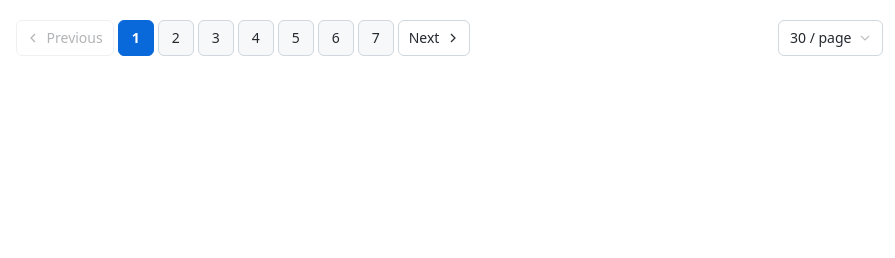
it: keeps nonstandard saved sizes available and ignores reselecting the current size
This screenshot has width=895, height=258.
Press ArrowDown in the dropdown named "Page Size", box [778, 20, 883, 56]
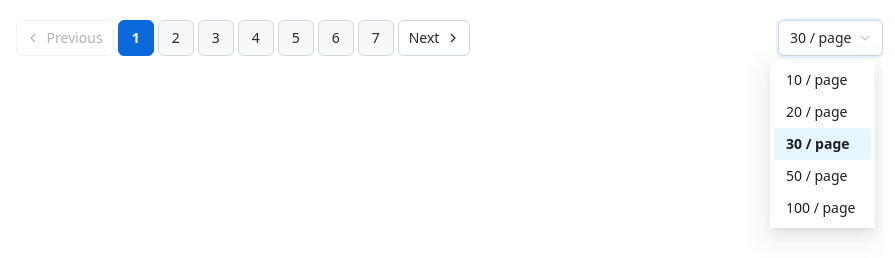
Check: the options read "10 / page", "20 / page", "30 / page", "50 / page", "100 / page", in this order
Click the option "30 / page": (822, 144) [774, 128, 871, 160]
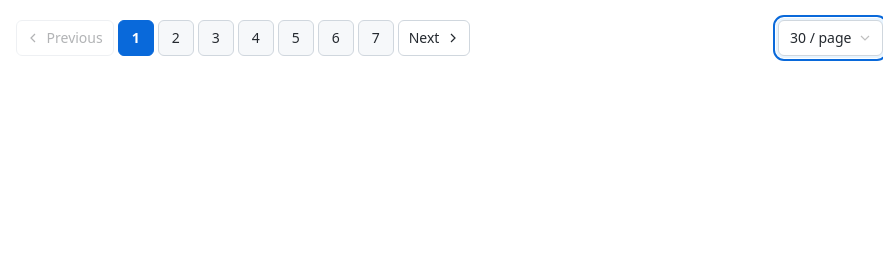
Check: the list "10 / page 20 / page 30 / page 50 / page 100 / page" is gone
